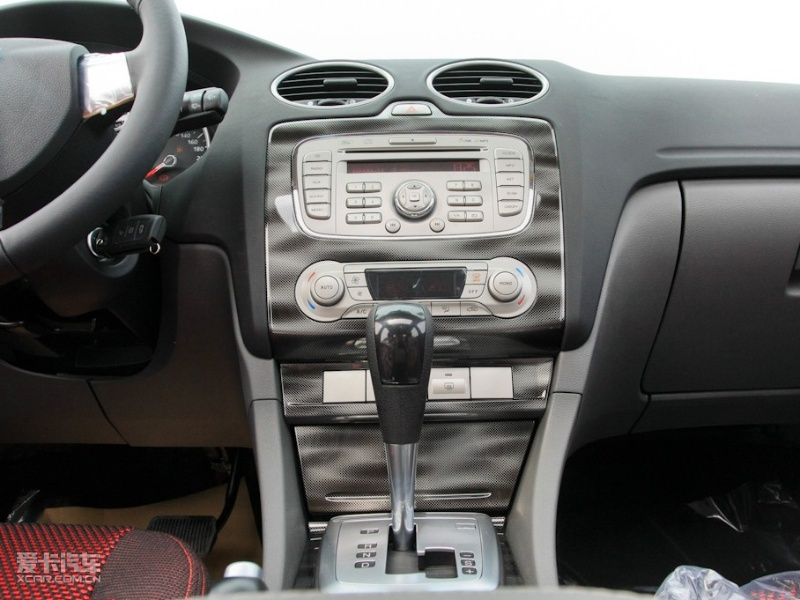control_center: (259, 51, 566, 316)
gear_lever: (334, 306, 478, 598)
odometer: (154, 100, 212, 187)
steering_wheel: (1, 15, 231, 280)
